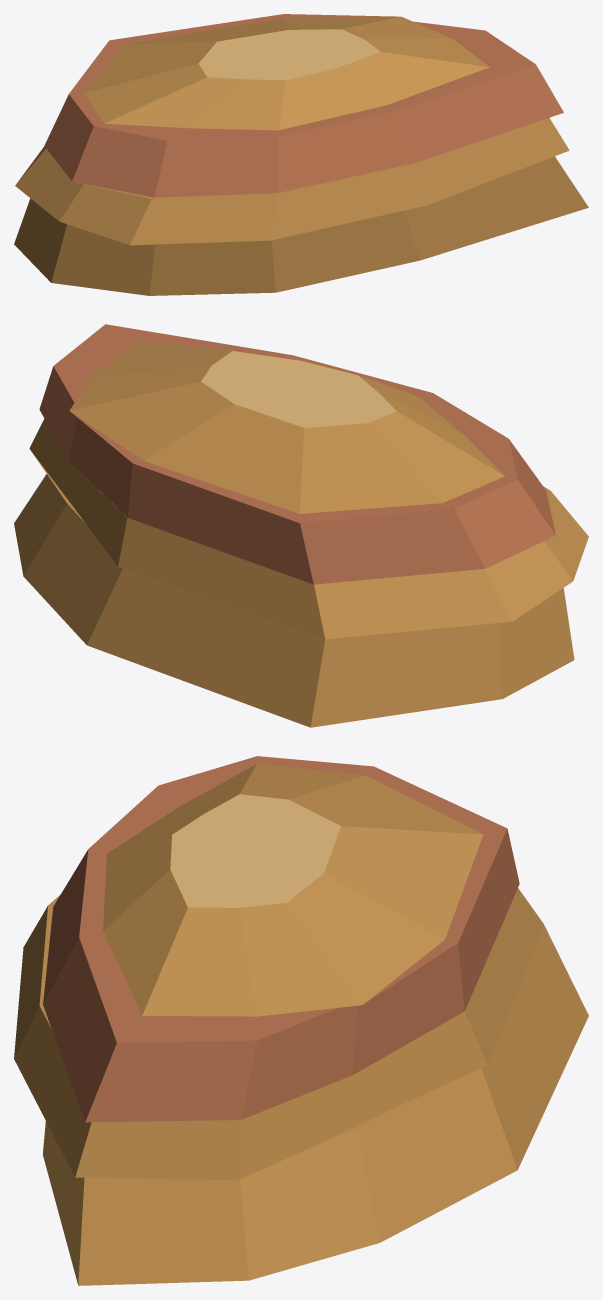
File: rock_shelf.glb
3 views of the same model, one above another, from view 1: azimuth 30°, elevation 25°; view 2: azimuth 150°, elevation 25°; view 3: azimuth 270°, elevation 25° (orthographic). The views are drawn at different scales.
Visible parts, largest first — view 1: rock_shelf; view 2: rock_shelf; view 3: rock_shelf.
Part boxes in pixels (bbox=[...]): rock_shelf: bbox=[14, 14, 588, 295]; rock_shelf: bbox=[14, 324, 588, 727]; rock_shelf: bbox=[14, 756, 588, 1285].
Bounding box in the file's own units: 1.12 × 0.38 × 0.7798.
